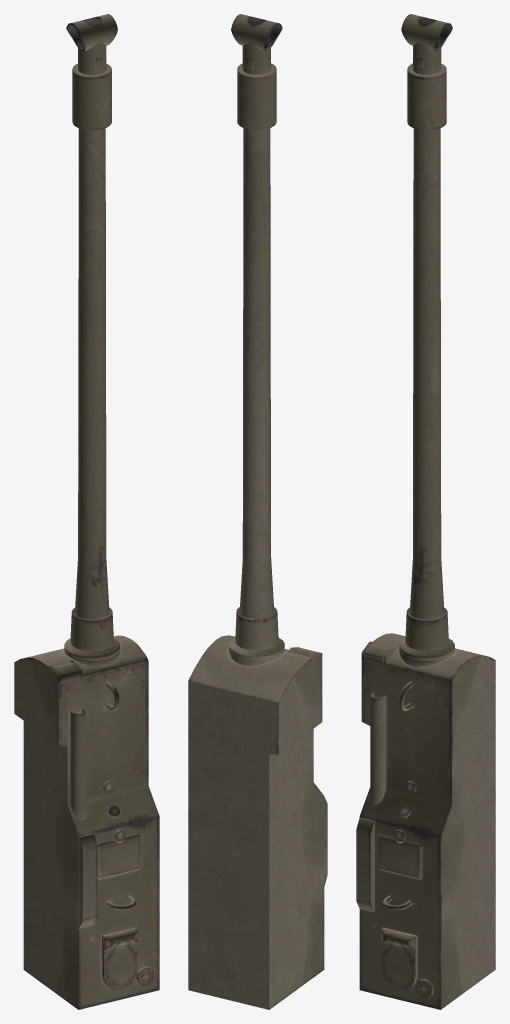
The model's file is Gun_01.glb.
The picture shows the model from 3 angles, left to right: view 1: azimuth 30°, elevation 25°; view 2: azimuth 150°, elevation 25°; view 3: azimuth 330°, elevation 25°; orthographic projection.
Parts seen in each view (by area): view 1: set_0_group_0; view 2: set_0_group_0; view 3: set_0_group_0.
Part boxes in pixels (x1=…): set_0_group_0: x1=14, y1=14, x2=159, y2=1009; set_0_group_0: x1=188, y1=14, x2=327, y2=1009; set_0_group_0: x1=356, y1=14, x2=495, y2=1009.
Size of the model in its own units: 0.5542 by 5.63 by 0.6973.
Materials: 1 (1 with a texture image).
